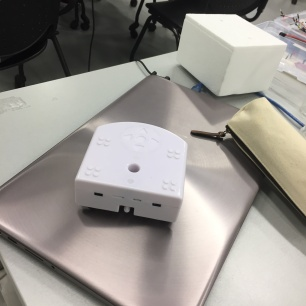thymio: (74, 118, 187, 225)
